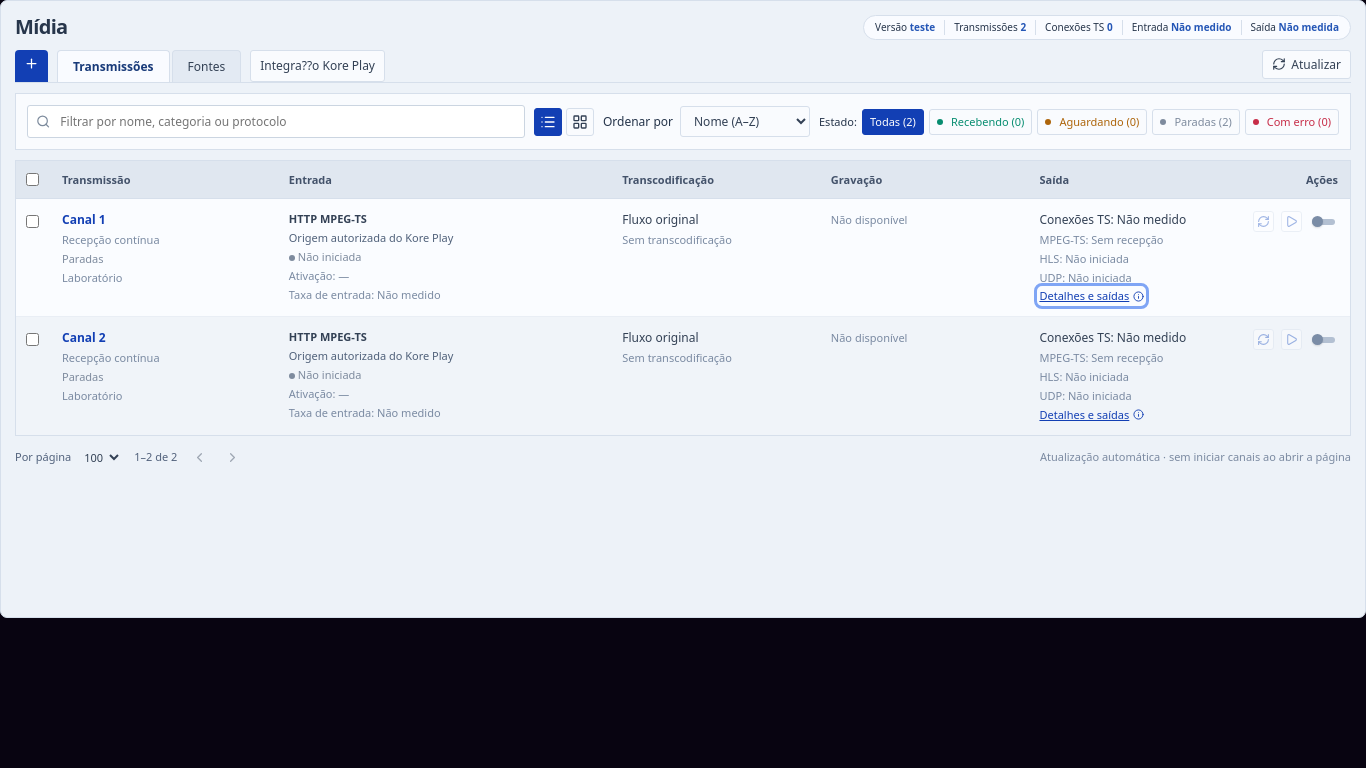
Test: closes channel details with Escape and returns focus without operating the channel
Expected: the button "Canal 1" is shown, [62,211,106,229]
Click the 1st button "Detalhes e saídas" at point(1092, 296), box [1039,288,1144,304]
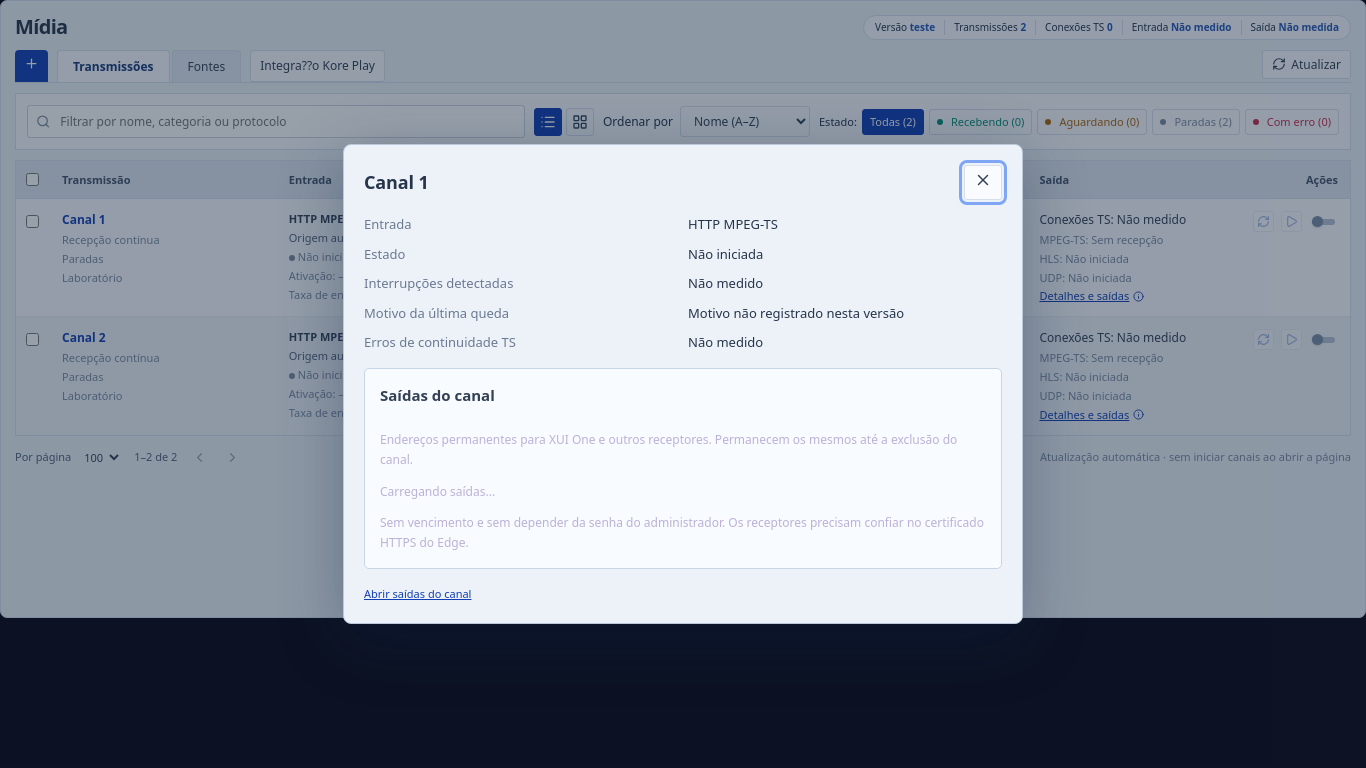
Now the dialog "Canal 1" is shown, box [343,144,1023,624]
Press Escape
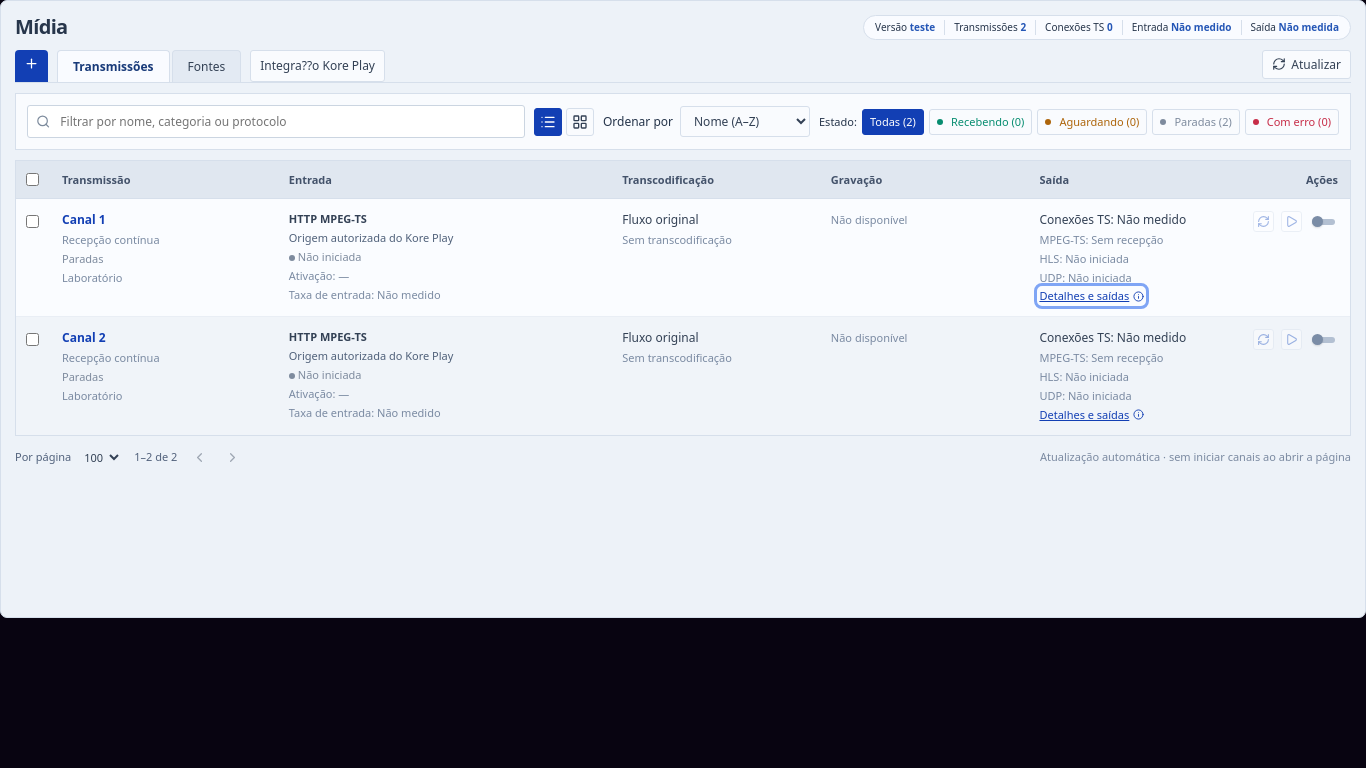
Now the dialog is gone
